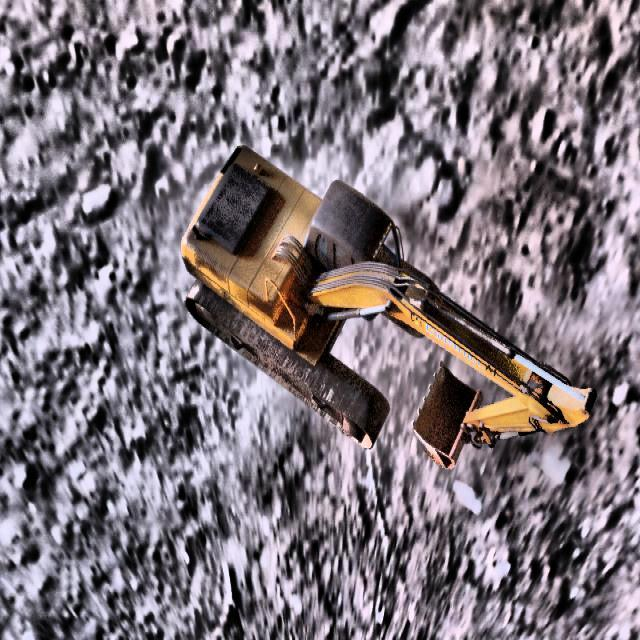excavator: (181, 145, 597, 468)
